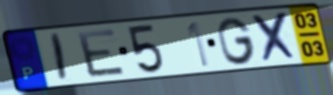1: (186, 21, 211, 67)
5: (126, 22, 165, 75)
E: (75, 27, 129, 79)
G: (215, 16, 258, 67)
I: (50, 32, 70, 84)
X: (249, 10, 300, 64)
